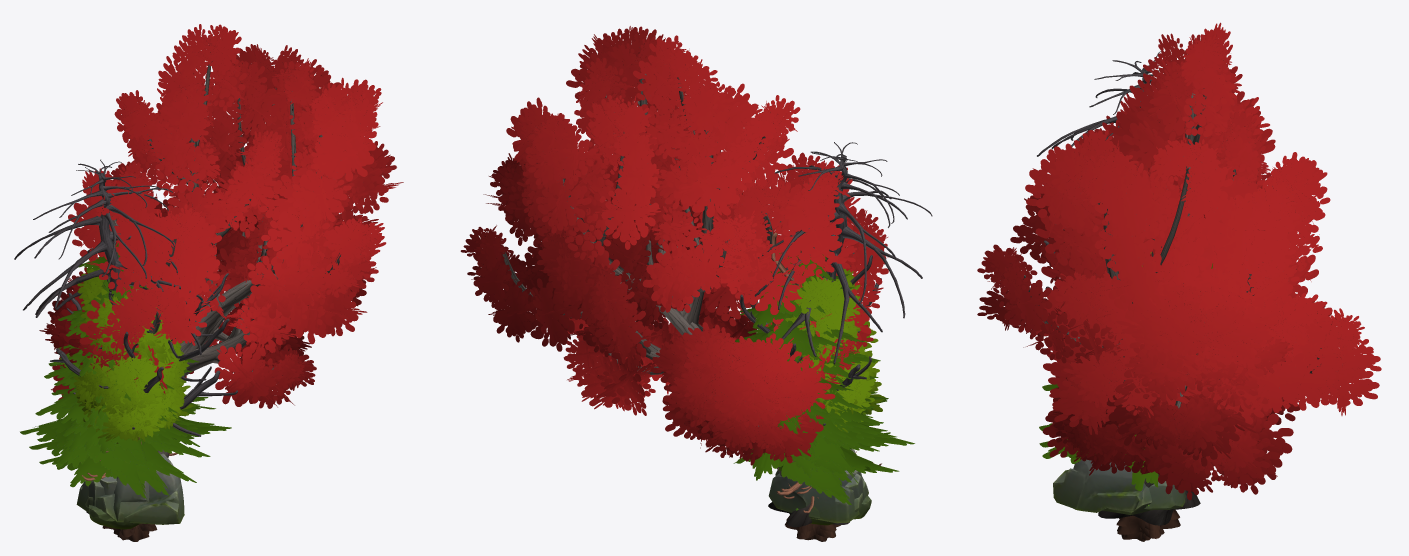
File: wilds.glb
The picture shows the model from 3 angles, left to right: view 1: azimuth 30°, elevation 25°; view 2: azimuth 150°, elevation 25°; view 3: azimuth 270°, elevation 25°; orthographic projection. The views are drawn at different scales.
Visible parts, largest first — view 1: TwistedTree_1 (×2), CommonTree_3 (×2), DeadTree_3, Pine_4 (×2), Pine_5 (×2), Pine_2 (×2), CommonTree_1 (×2), CommonTree_2 (×2), Rock_Medium_3, DeadTree_1, Rock_Medium_1, CommonTree_4 (+1 smaller); view 2: TwistedTree_1 (×2), Pine_5 (×2), DeadTree_3, Pine_4 (×2), CommonTree_3 (×2), Rock_Medium_2, CommonTree_4 (×2), Pine_2, CommonTree_1, DeadTree_1, CommonTree_2, Pine_1; view 3: TwistedTree_1 (×2), Rock_Medium_3, DeadTree_3, Rock_Medium_2, Pine_5.
Part boxes in pixels (x1=…): TwistedTree_1 (×2): x1=39, y1=24, x2=403, y2=513; CommonTree_3 (×2): x1=77, y1=277, x2=189, y2=537; DeadTree_3: x1=14, y1=159, x2=202, y2=354; Pine_4 (×2): x1=20, y1=242, x2=208, y2=537; Pine_5 (×2): x1=29, y1=309, x2=231, y2=541; Pine_2 (×2): x1=39, y1=350, x2=207, y2=498; CommonTree_1 (×2): x1=76, y1=339, x2=193, y2=533; CommonTree_2 (×2): x1=73, y1=328, x2=190, y2=439; Rock_Medium_3: x1=89, y1=453, x2=184, y2=529; DeadTree_1: x1=50, y1=273, x2=237, y2=436; Rock_Medium_1: x1=85, y1=476, x2=149, y2=522; CommonTree_4: x1=79, y1=268, x2=171, y2=530; TwistedTree_1 (×2): x1=460, y1=26, x2=888, y2=527; Pine_5 (×2): x1=735, y1=232, x2=888, y2=541; DeadTree_3: x1=754, y1=142, x2=932, y2=364; Pine_4 (×2): x1=747, y1=183, x2=914, y2=540; CommonTree_3 (×2): x1=777, y1=253, x2=878, y2=539; Rock_Medium_2: x1=768, y1=470, x2=859, y2=523; CommonTree_4 (×2): x1=760, y1=253, x2=860, y2=538; Pine_2: x1=736, y1=415, x2=899, y2=504; CommonTree_1: x1=785, y1=341, x2=885, y2=538; DeadTree_1: x1=740, y1=252, x2=881, y2=425; CommonTree_2: x1=766, y1=322, x2=881, y2=414; Pine_1: x1=799, y1=346, x2=883, y2=482; TwistedTree_1 (×2): x1=977, y1=22, x2=1381, y2=525; Rock_Medium_3: x1=1053, y1=459, x2=1145, y2=512; DeadTree_3: x1=1037, y1=51, x2=1180, y2=518; Rock_Medium_2: x1=1144, y1=481, x2=1185, y2=510; Pine_5: x1=1039, y1=263, x2=1212, y2=541.
Bounding box in the file's own units: 15.47 × 17.86 × 12.2.
11 materials, 11 textured.
